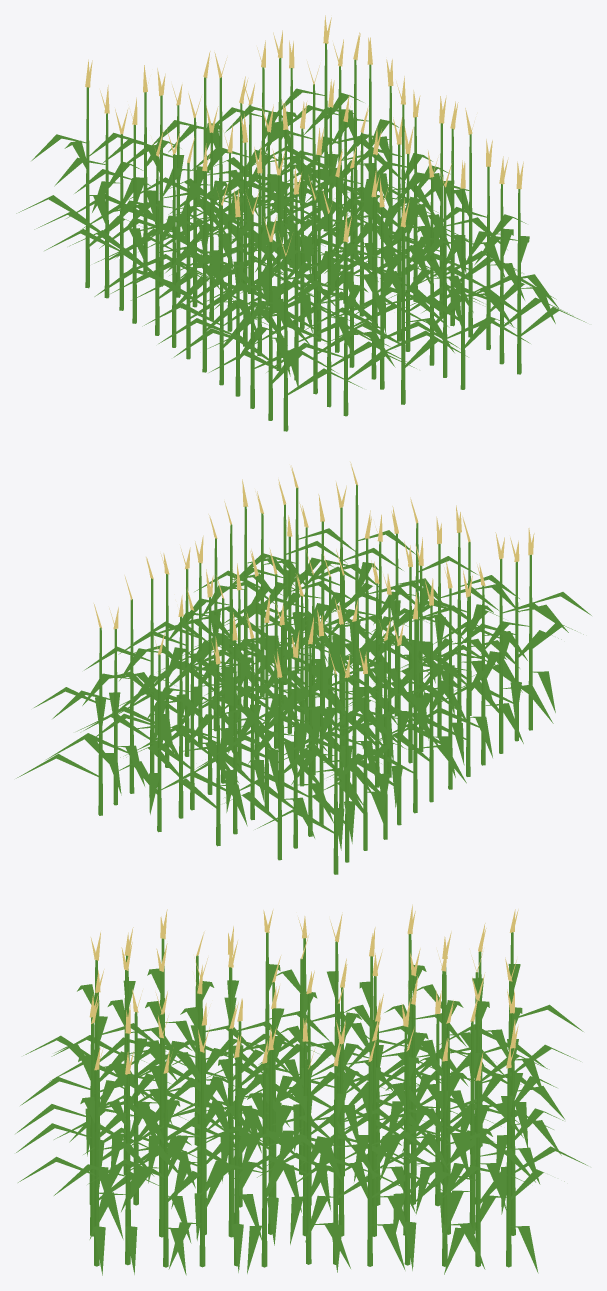
The model's file is Blender_CornPatch_1.glb.
3 renders of one model, top to bottom at view 1: azimuth 30°, elevation 25°; view 2: azimuth 150°, elevation 25°; view 3: azimuth 270°, elevation 25°, orthographic. The views are drawn at different scales.
Parts seen in each view (by area): view 1: Blender_CornPatch_1; view 2: Blender_CornPatch_1; view 3: Blender_CornPatch_1.
Part boxes in pixels (<box>): Blender_CornPatch_1: <box>16,15,586,431</box>; Blender_CornPatch_1: <box>16,462,591,874</box>; Blender_CornPatch_1: <box>15,904,587,1275</box>.
Bounding box in the file's own units: 4.95 × 2.86 × 6.18.
